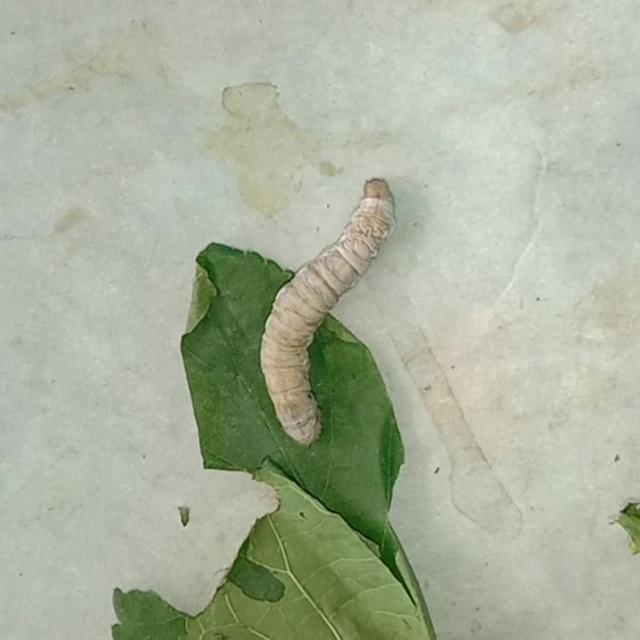Grasserie: (243, 141, 438, 455)
